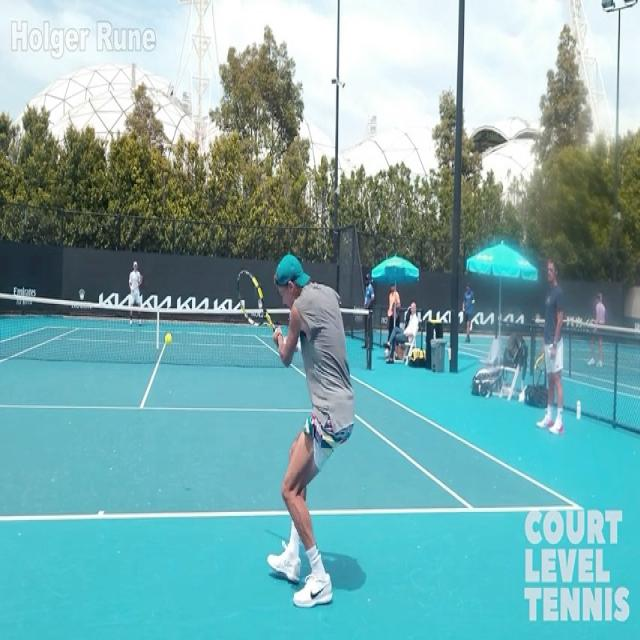backhand-stroke: (237, 251, 364, 611)
